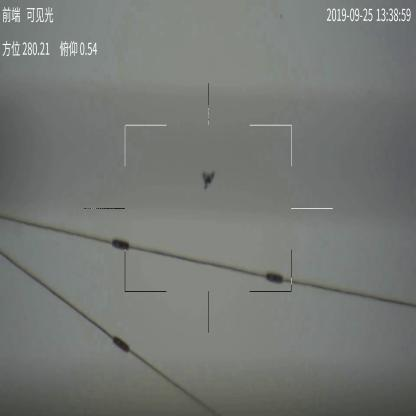uav: (200, 167, 215, 192)
